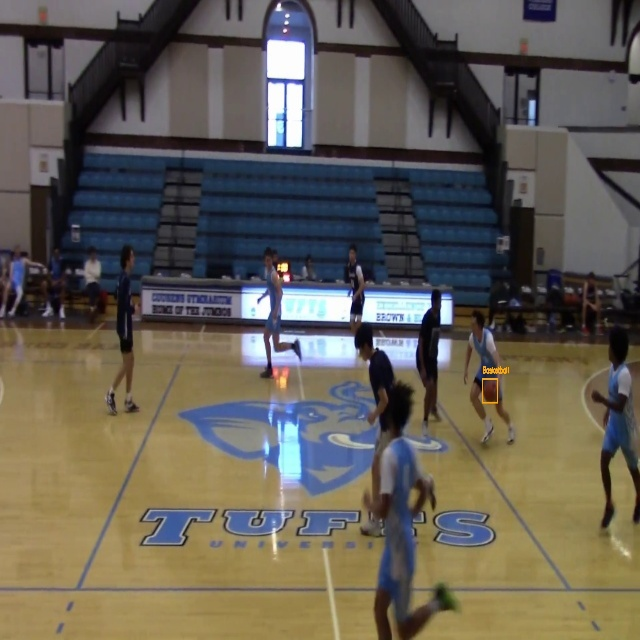Basketball: (483, 379, 498, 403)
